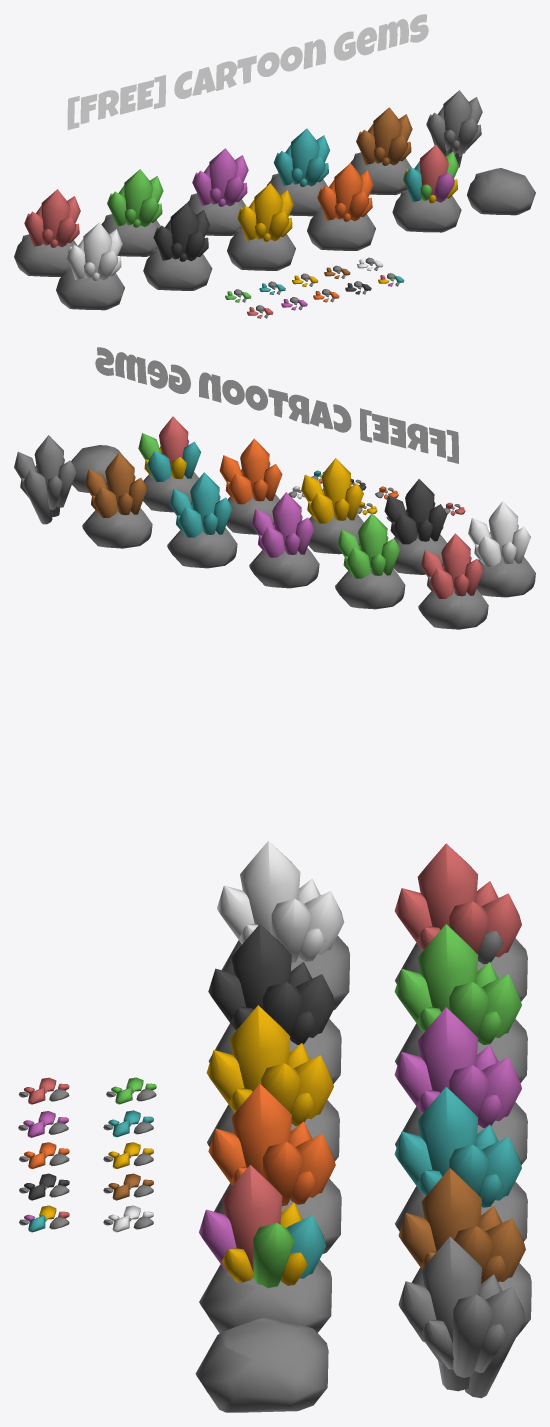
Rendered from free_cartoon_crystals.glb.
3 renders of one model, top to bottom at view 1: azimuth 30°, elevation 25°; view 2: azimuth 150°, elevation 25°; view 3: azimuth 270°, elevation 25°, orthographic. The views are drawn at different scales.
Visible parts, largest first — view 1: Text, Crystal_Black, Crystal_Rainbow, Crystal_White, Crystal_Orange, Crystal_Gold, Crystal_Red, Crystal_Brown, Crystal_Green, Crystal_Purple, Crystal_Blue, Crystal_Base (+1 smaller); view 2: Text, Crystal_Green, Crystal_Purple, Crystal_Brown, Crystal_Red, Crystal_Blue, Crystal_White, Crystal_Gold, Crystal_Rainbow, Crystal_Black, Crystal_Orange, Crystal_Empty (+1 smaller); view 3: Crystal_Rainbow, Crystal_Empty, Crystal_White, Crystal_Orange, Crystal_Base, Crystal_Green, Crystal_Black, Crystal_Blue, Crystal_Red, Crystal_Purple, Crystal_Gold, Crystal_Brown.
Part boxes in pixels (<box>): Text: <box>67,14,428,129</box>; Crystal_Black: <box>143,203,212,290</box>; Crystal_Rainbow: <box>392,145,461,232</box>; Crystal_White: <box>56,222,124,310</box>; Crystal_Orange: <box>307,163,375,250</box>; Crystal_Gold: <box>227,183,295,270</box>; Crystal_Red: <box>14,189,80,276</box>; Crystal_Brown: <box>349,107,412,194</box>; Crystal_Green: <box>101,169,163,256</box>; Crystal_Purple: <box>187,148,248,235</box>; Crystal_Blue: <box>267,128,329,216</box>; Crystal_Base: <box>467,168,535,215</box>; Text: <box>95,347,458,463</box>; Crystal_Green: <box>335,513,405,609</box>; Crystal_Purple: <box>249,492,319,588</box>; Crystal_Brown: <box>82,452,152,548</box>; Crystal_Red: <box>418,533,488,629</box>; Crystal_Blue: <box>167,472,237,568</box>; Crystal_White: <box>468,501,535,597</box>; Crystal_Gold: <box>301,458,363,554</box>; Crystal_Rainbow: <box>138,416,200,512</box>; Crystal_Black: <box>384,479,447,574</box>; Crystal_Orange: <box>219,438,282,534</box>; Crystal_Empty: <box>14,435,76,524</box>; Crystal_Rainbow: <box>199,1165,331,1333</box>; Crystal_Empty: <box>398,1236,525,1398</box>; Crystal_White: <box>217,841,350,1010</box>; Crystal_Orange: <box>208,1084,341,1253</box>; Crystal_Base: <box>195,1317,328,1412</box>; Crystal_Green: <box>394,924,527,1082</box>; Crystal_Black: <box>208,924,341,1083</box>; Crystal_Blue: <box>394,1087,527,1241</box>; Crystal_Red: <box>394,843,527,1001</box>; Crystal_Purple: <box>394,1007,527,1164</box>; Crystal_Gold: <box>206,1005,339,1161</box>; Crystal_Brown: <box>398,1168,531,1341</box>.
Size of the model in its own units: 9.6 by 3.5 by 4.56.
